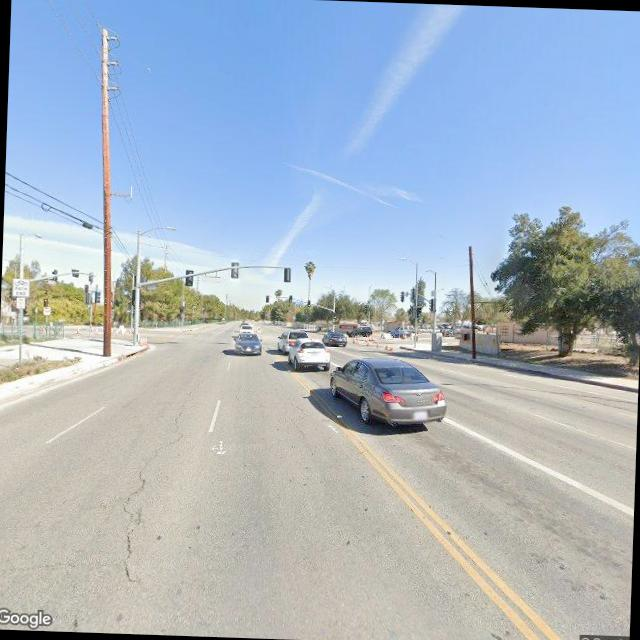pothole: (112, 386, 196, 587)
